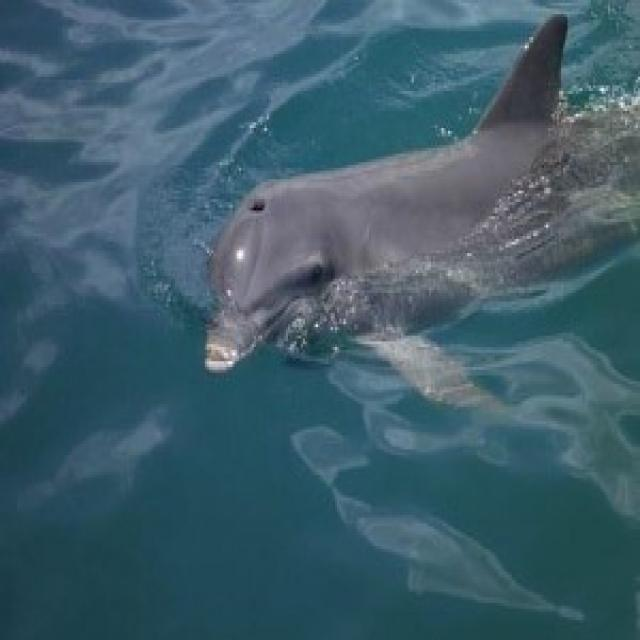Dolphin: (187, 5, 640, 401)
